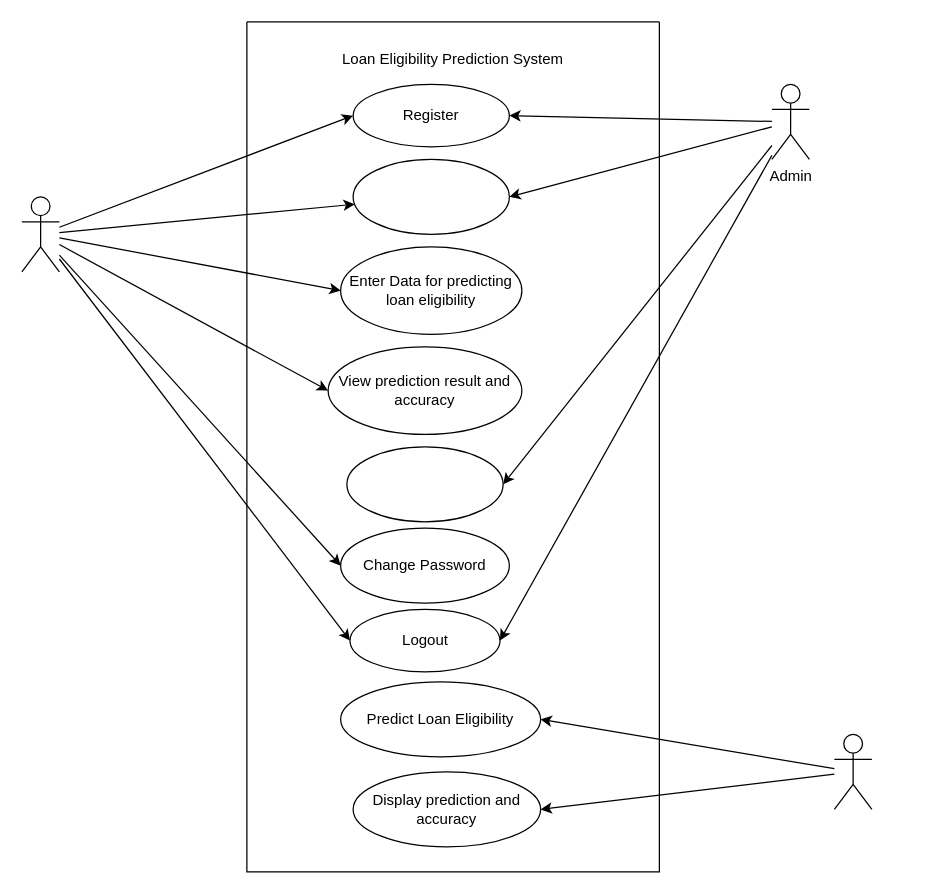
Some shapes in this 930 by 894 pixel diagram are drawn without their labels. Here are the shapes that lost their labels. From the top down, the box of each, then its label:
(352, 158, 509, 234): Login
(21, 196, 59, 272): User
(346, 446, 503, 522): Maintain User and Predictions
(833, 733, 872, 809): Prediction Model
